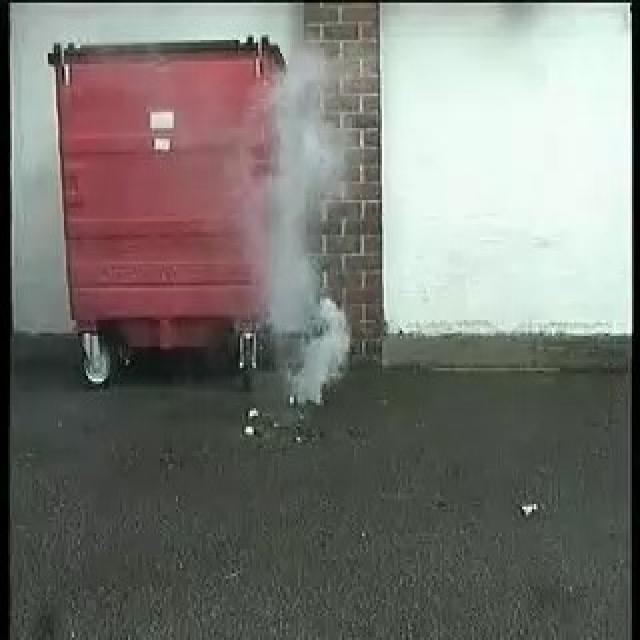smoke: (255, 57, 349, 406)
